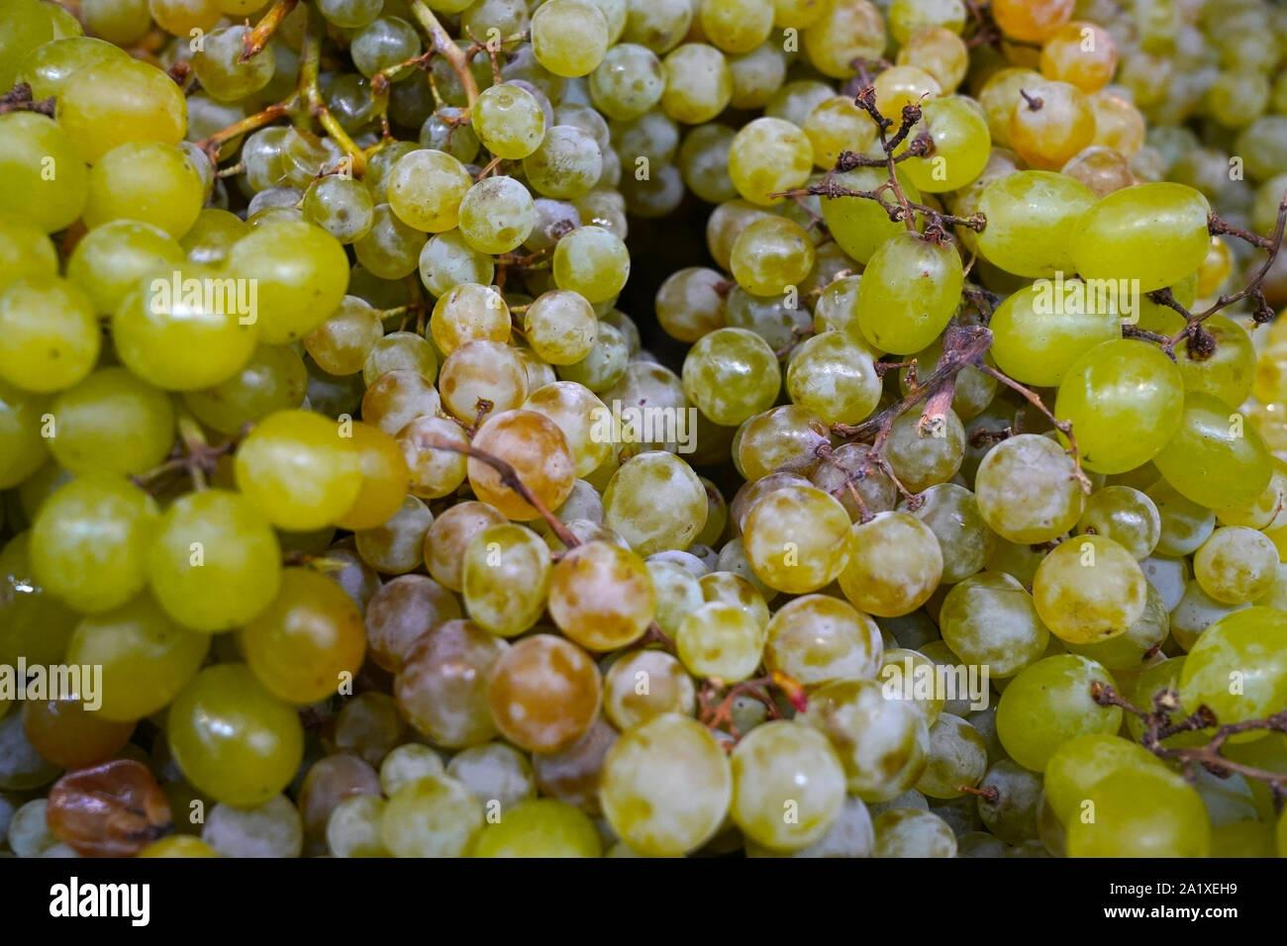Grape Rotten: (2, 0, 1284, 859)
